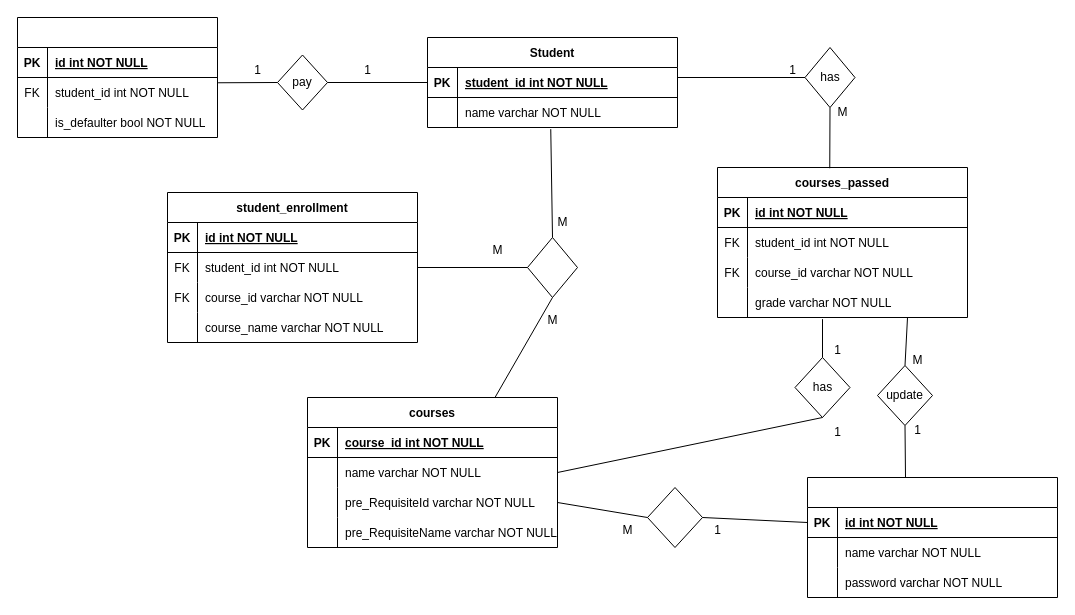
Image size: 1075x615. Some labels were removed from this diagram. Here are the shapes that lost their labels. From the top down, the box of each, then its label:
(16, 16, 218, 138): Fee
(526, 236, 578, 298): enroll
(646, 486, 702, 548): add
(806, 476, 1058, 598): batch_advisors
